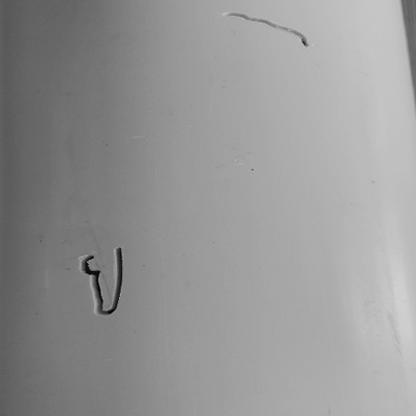fengxi: (222, 12, 309, 49), (79, 249, 125, 316)
